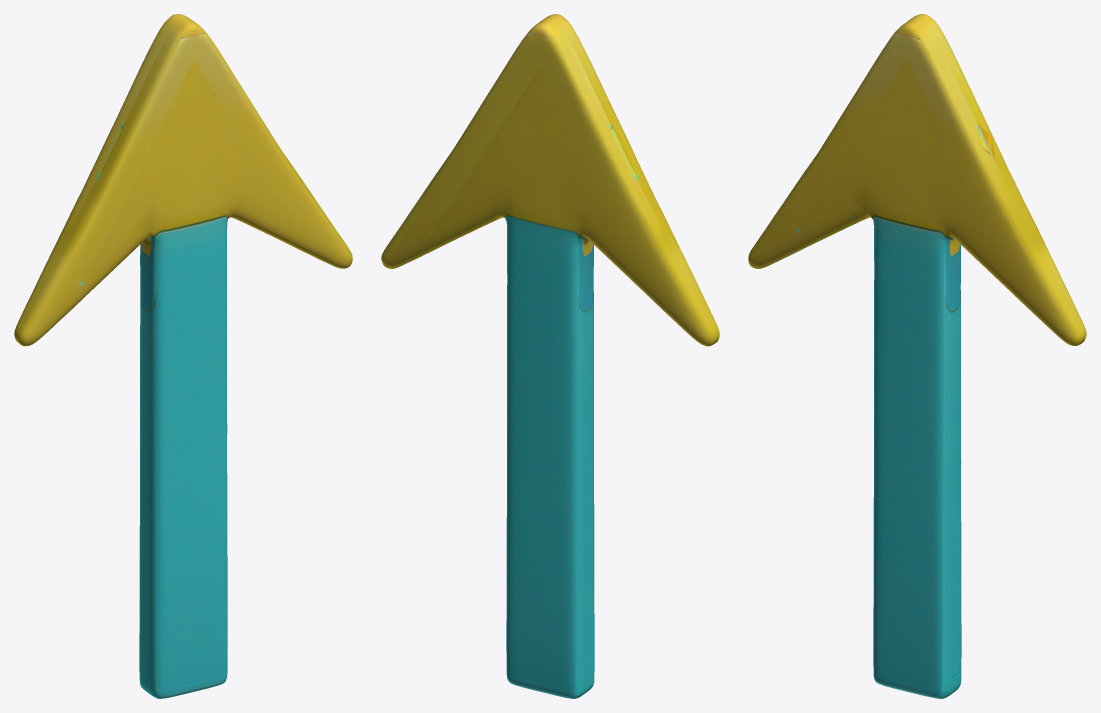
File: A_dash_power_up_picku_0926200059_texture.fbx
The picture shows the model from 3 angles, left to right: view 1: azimuth 30°, elevation 25°; view 2: azimuth 150°, elevation 25°; view 3: azimuth 330°, elevation 25°; orthographic projection.
Parts seen in each view (by area): view 1: Mesh0; view 2: Mesh0; view 3: Mesh0.
Boxes of the visible parts, <box> form: Mesh0: <box>14,14,352,698</box>; Mesh0: <box>381,14,719,698</box>; Mesh0: <box>748,14,1086,698</box>.
Size of the model in its own units: 99.71 by 191 by 10.92.
1 material, 1 textured.
